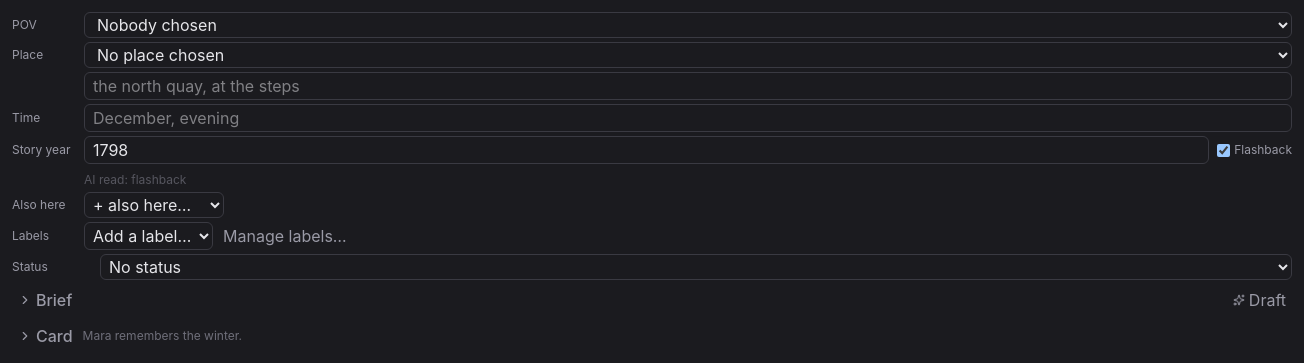
MetadataPane in story memory v2 (F-16.11, F-16.7) › puts the Flashback switch beside Story year: the book’s reading until the author sets it, then the author’s (2026-10-14)
Expected: the text "AI read: flashback" is shown, x1=84 y1=172 x2=186 y2=187
Expected: the button "Follow the book" is not shown
Click the switch labelled "Flashback" at point(1224, 150), box x1=1217 y1=144 x2=1230 y2=156
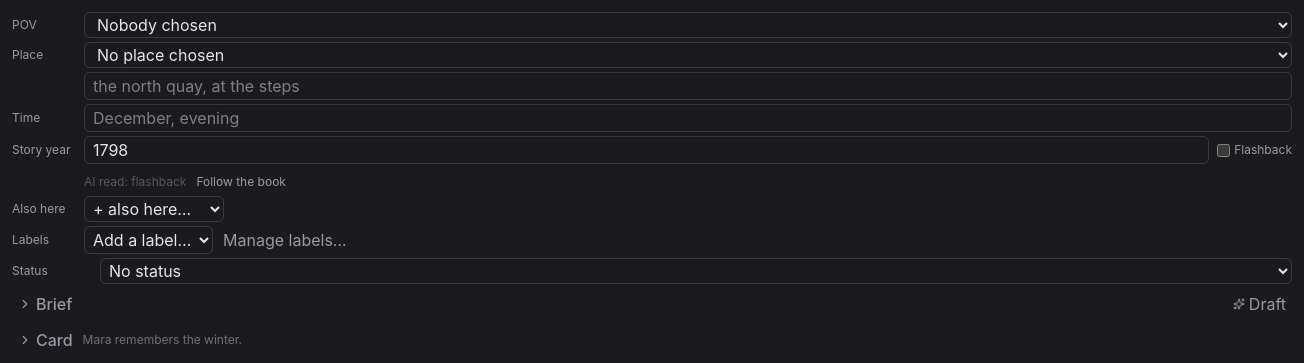
Expected: the text with test id "flashback-ai-read" reads "AI read: flashback", x1=84 y1=174 x2=186 y2=190
Expected: the switch labelled "Flashback" is not checked, x1=1217 y1=144 x2=1230 y2=156
// Follow the book: unset again.
Click the button "Follow the book" at point(241, 182), box x1=190 y1=172 x2=292 y2=192
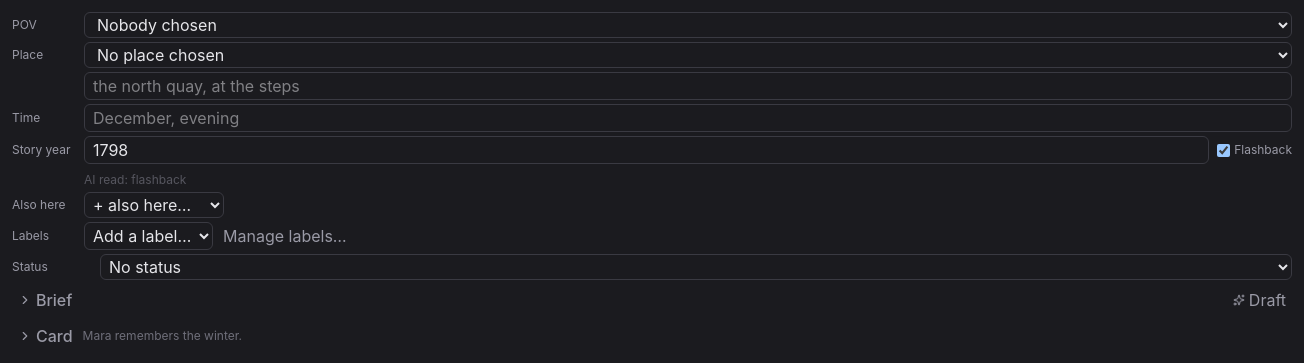
Expected: the switch labelled "Flashback" is checked, x1=1217 y1=144 x2=1230 y2=156
Expected: the text with test id "flashback-ai-read" is gone
